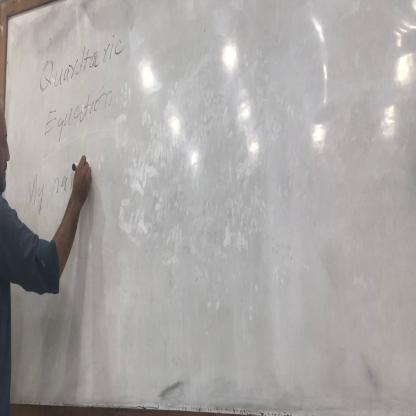Handwritten text: (21, 13, 145, 103), (29, 71, 134, 152), (20, 156, 86, 220)
Lecturer: (0, 104, 61, 406)
Whiteboard: (1, 0, 415, 416)
